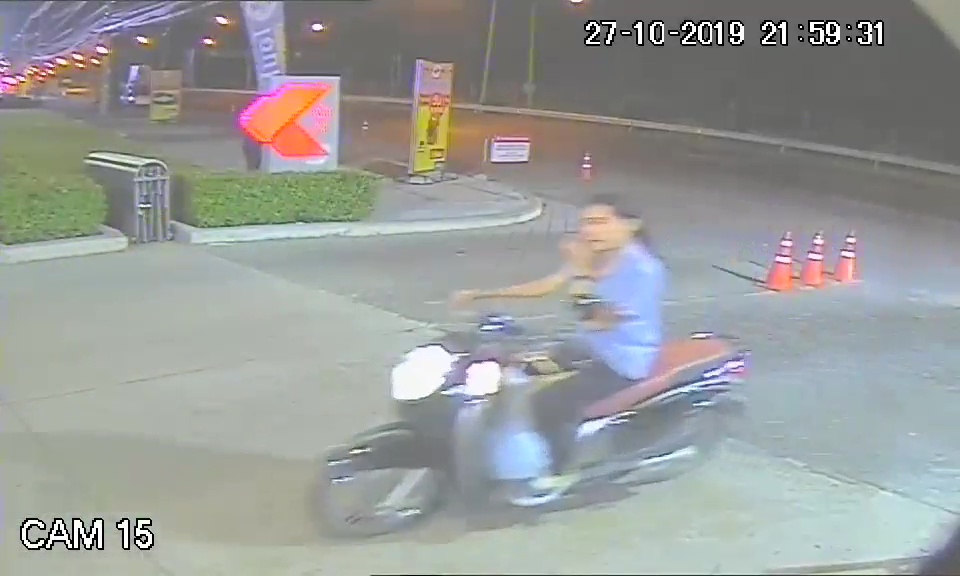motorcycle: (304, 309, 751, 539)
